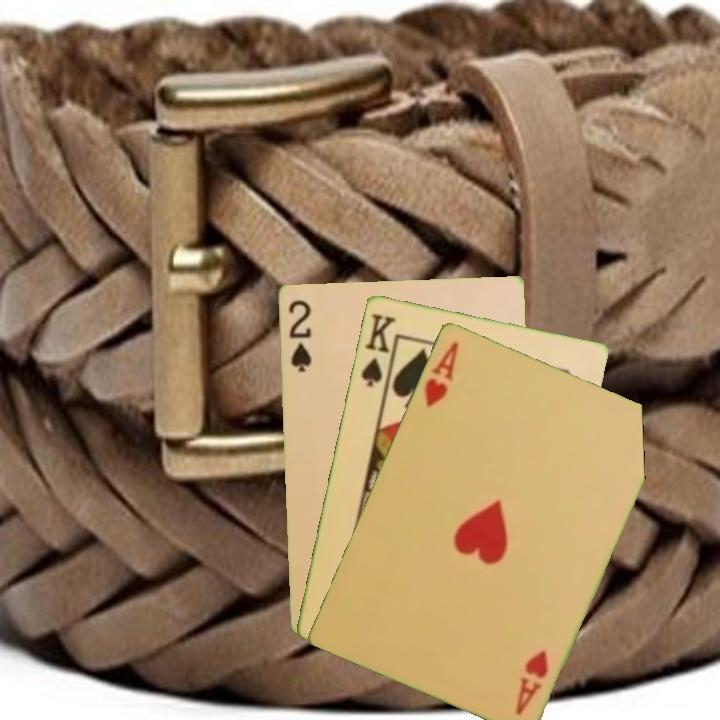2s: (284, 296, 314, 374)
Ah: (420, 337, 462, 410), (511, 646, 551, 718)
Ks: (357, 309, 399, 392)
